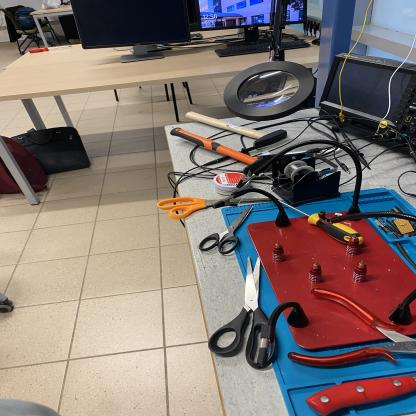Hammer: (171, 126, 282, 176), (184, 111, 288, 148)
Knife: (304, 371, 416, 416)
scissors: (208, 256, 278, 369), (157, 196, 278, 220), (199, 205, 255, 254)
